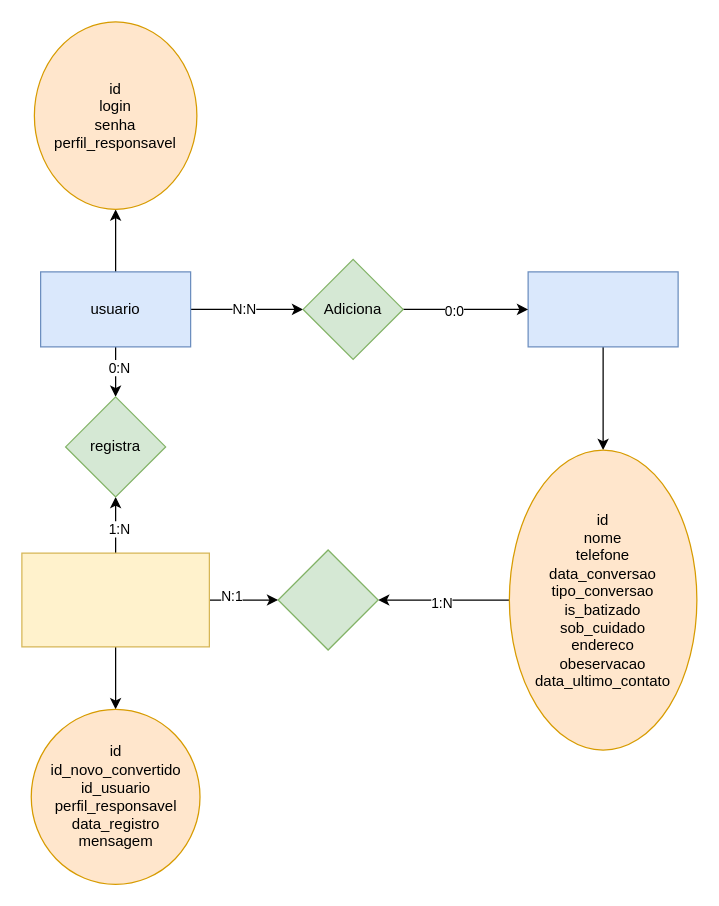
This 719x906 diagram has some shape labels left out. The centre of each missing label's shape, as x and y in pixels:
"historico_mensagens" goes at (x=115, y=599).
"novo_convertido" goes at (x=602, y=309).
"tem" goes at (x=327, y=599).
